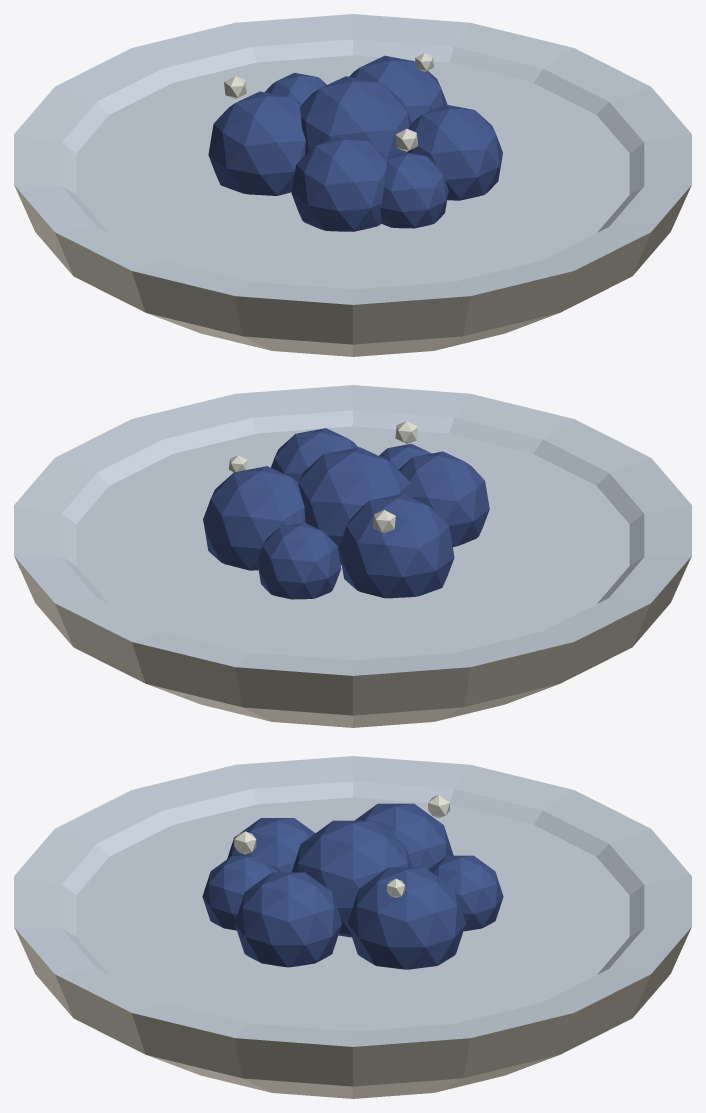
Rendered from Moon_Bowl.glb.
The picture shows the model from 3 angles, top to bottom: view 1: azimuth 30°, elevation 25°; view 2: azimuth 150°, elevation 25°; view 3: azimuth 270°, elevation 25°; orthographic projection.
Visible parts, largest first — view 1: _I_MoonBowl; view 2: _I_MoonBowl; view 3: _I_MoonBowl.
Boxes of the visible parts, bbox=[...] form: _I_MoonBowl: bbox=[14, 14, 691, 356]; _I_MoonBowl: bbox=[14, 385, 691, 727]; _I_MoonBowl: bbox=[14, 756, 691, 1098].
Size of the model in its own units: 0.64 by 0.2 by 0.6303.
